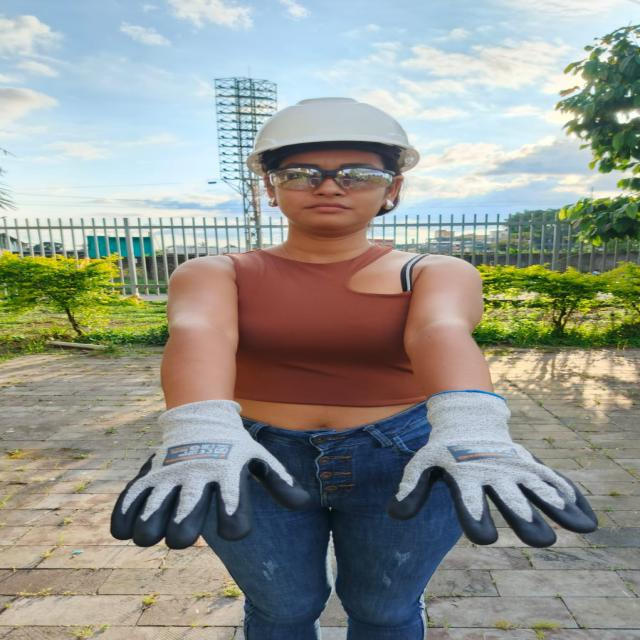gloves: (388, 391, 596, 547), (110, 400, 311, 549)
helmet: (246, 98, 419, 171)
protective_glasses: (267, 165, 395, 191)
